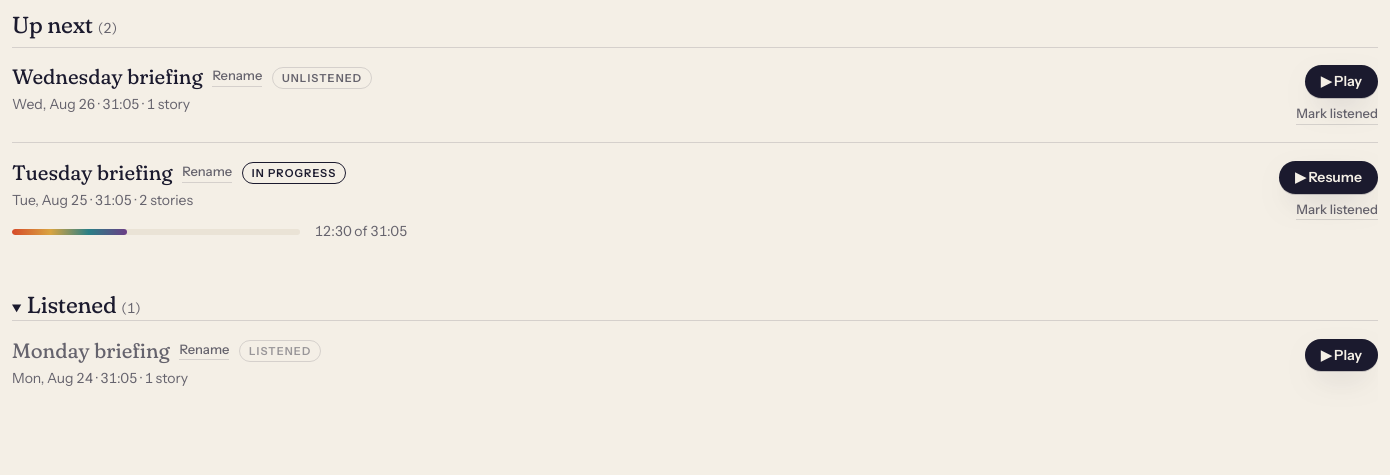
Test case: Mark listened › says what went wrong when a write fails, and leaves the row where it was
This screenshot has width=1390, height=475.
Click the button "Mark listened" in the row of "Wed, Aug 26". click: [1337, 115]
box: [1296, 106, 1378, 125]
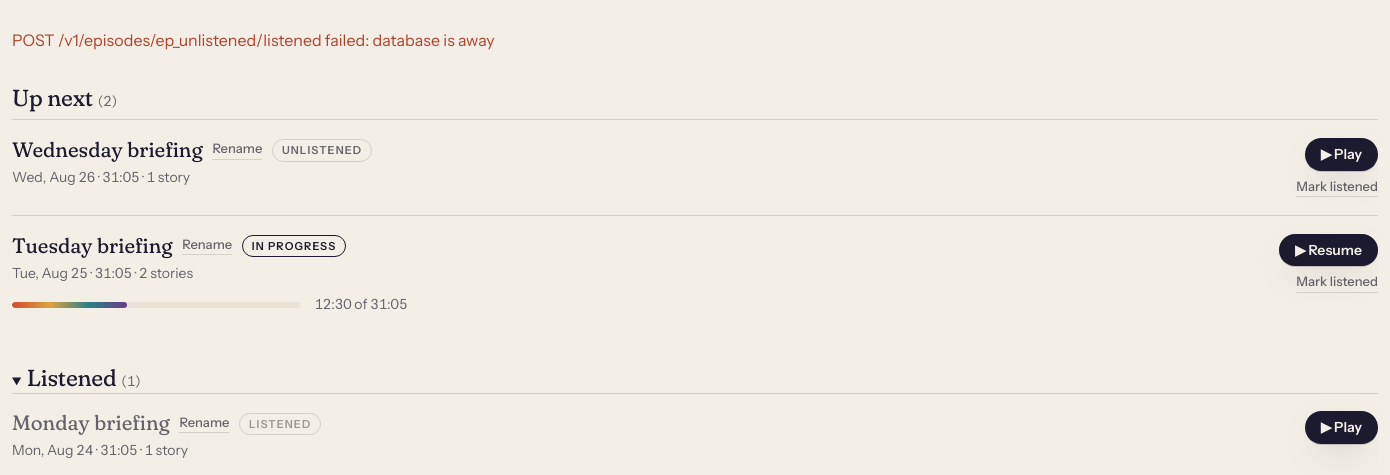
Now the text "POST /v1/episodes/ep_unlistened/listened failed: database is away" is shown, box [12, 30, 495, 50]
